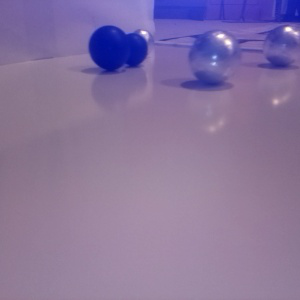alive_ball: (188, 30, 241, 84), (262, 24, 300, 67), (131, 28, 154, 55)
dead_ball: (88, 24, 130, 71), (121, 32, 148, 67)
